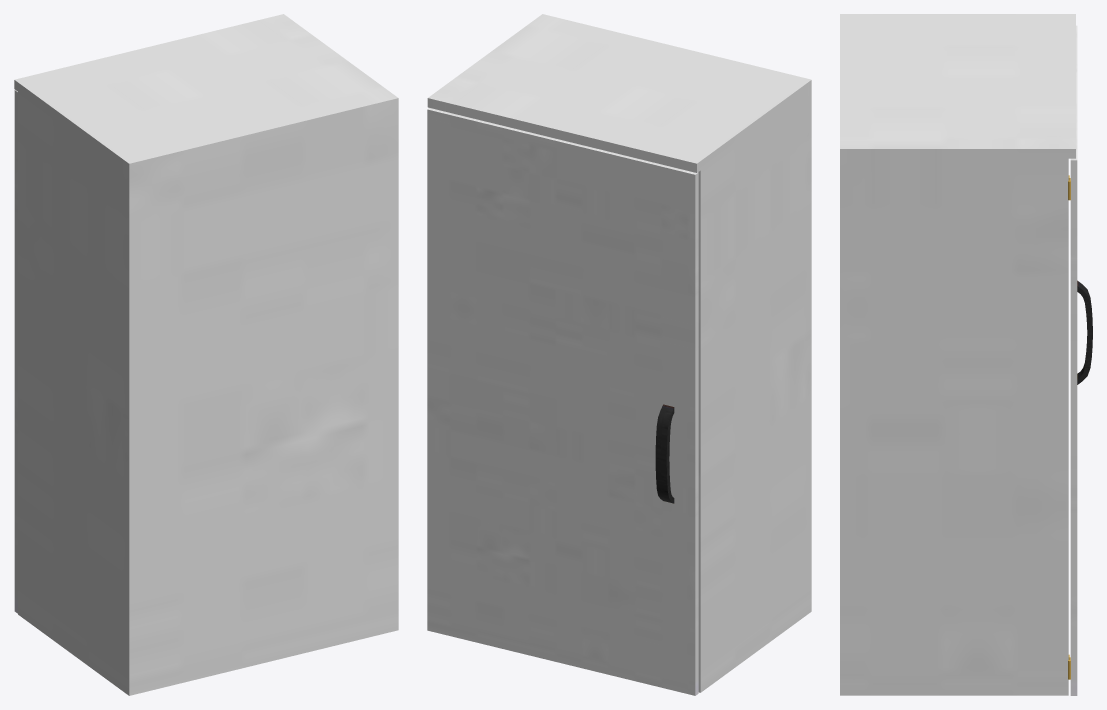
The model's file is Closet43.glb.
3 renders of one model, left to right at view 1: azimuth 30°, elevation 25°; view 2: azimuth 150°, elevation 25°; view 3: azimuth 270°, elevation 25°, orthographic. The views are drawn at different scales.
Parts seen in each view (by area): view 1: Closet43_model, Closet43Door; view 2: Closet43Door, Closet43_model; view 3: Closet43_model, Closet43Door.
Part boxes in pixels (x1=…): Closet43_model: x1=14, y1=14, x2=398, y2=695; Closet43Door: x1=14, y1=90, x2=17, y2=613; Closet43Door: x1=427, y1=108, x2=698, y2=695; Closet43_model: x1=427, y1=14, x2=811, y2=692; Closet43_model: x1=840, y1=14, x2=1075, y2=695; Closet43Door: x1=1068, y1=25, x2=1092, y2=695.
Bounding box in the file's own units: 1.38 × 2.58 × 1.08.
Materials: 1 (1 with a texture image).
